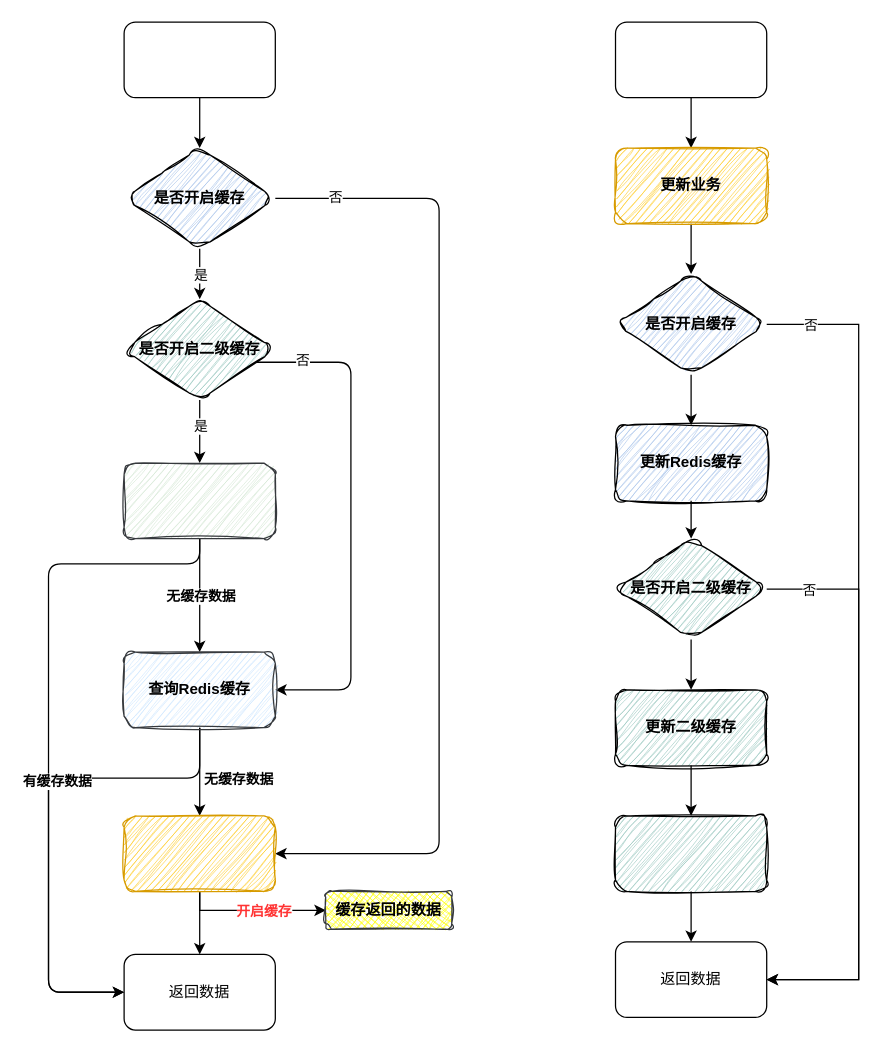
Image size: 891x1052. Some labels were removed from this diagram. The box of each missing label's shape, as (x1, y1, x2, y2) in pixels:
分布式缓存更新 （广播订阅）: (614, 815, 767, 891)
更新接口: (614, 21, 767, 98)
查询业务: (123, 815, 275, 891)
查询二级缓存: (123, 462, 275, 539)
查询接口: (123, 21, 275, 98)
